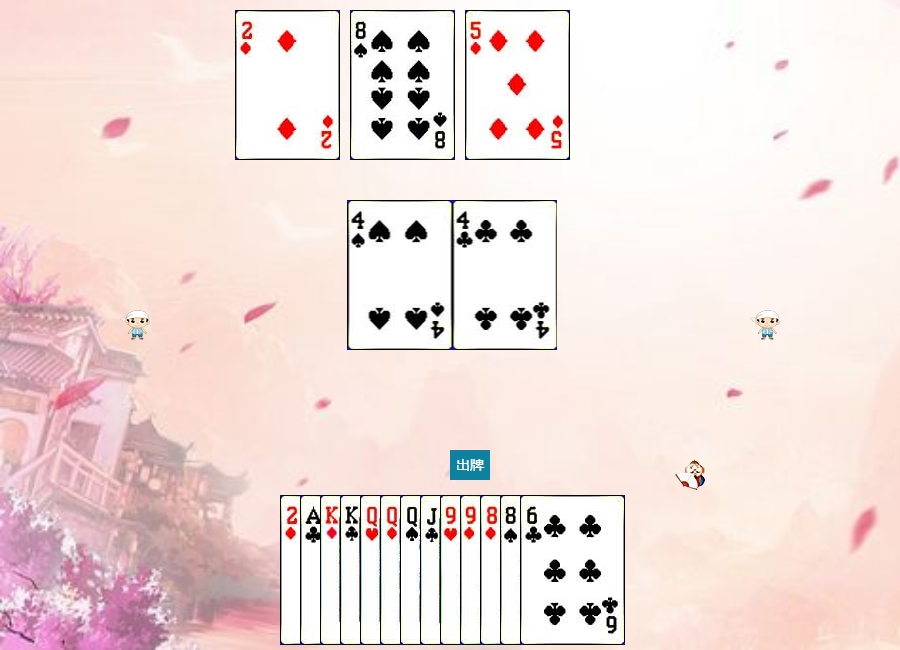11~2: (420, 495, 525, 645)
12~1: (380, 495, 485, 645)
12~3: (360, 495, 465, 645)
12~4: (400, 495, 505, 645)
13~1: (320, 495, 425, 645)
13~2: (340, 495, 445, 645)
14~2: (300, 495, 405, 645)
15~1: (235, 10, 340, 160), (280, 495, 385, 645)
4~2: (453, 200, 558, 350)
4~4: (348, 200, 453, 350)
5~1: (465, 10, 570, 160)
6~2: (520, 495, 625, 645)
8~1: (480, 495, 585, 645)
8~4: (350, 10, 455, 160), (500, 495, 605, 645)
9~1: (460, 495, 565, 645)
9~3: (440, 495, 545, 645)
